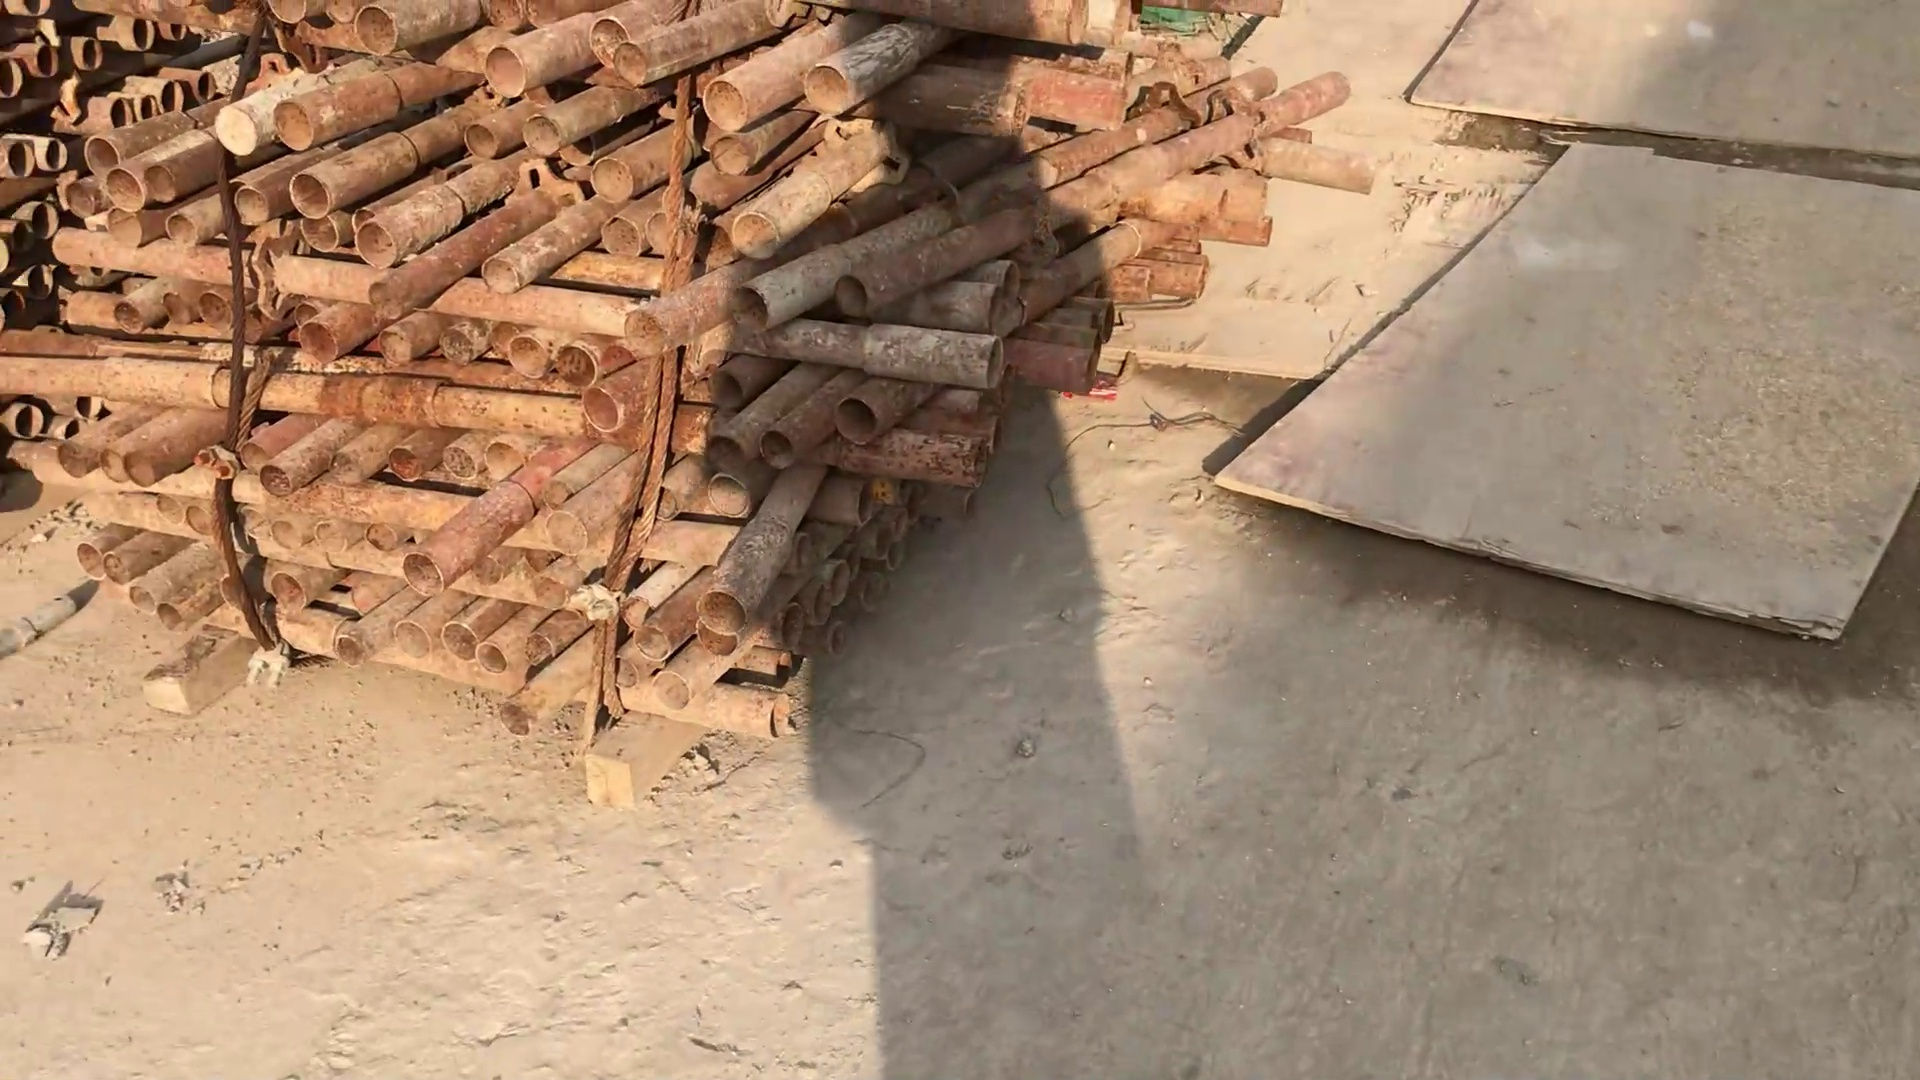scaffold: (1, 1, 1364, 744)
